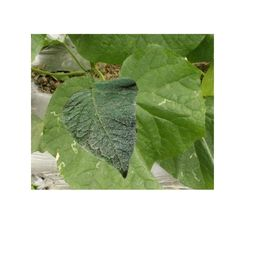liriomyza: (158, 97, 171, 106), (71, 139, 78, 153), (57, 161, 65, 171)
